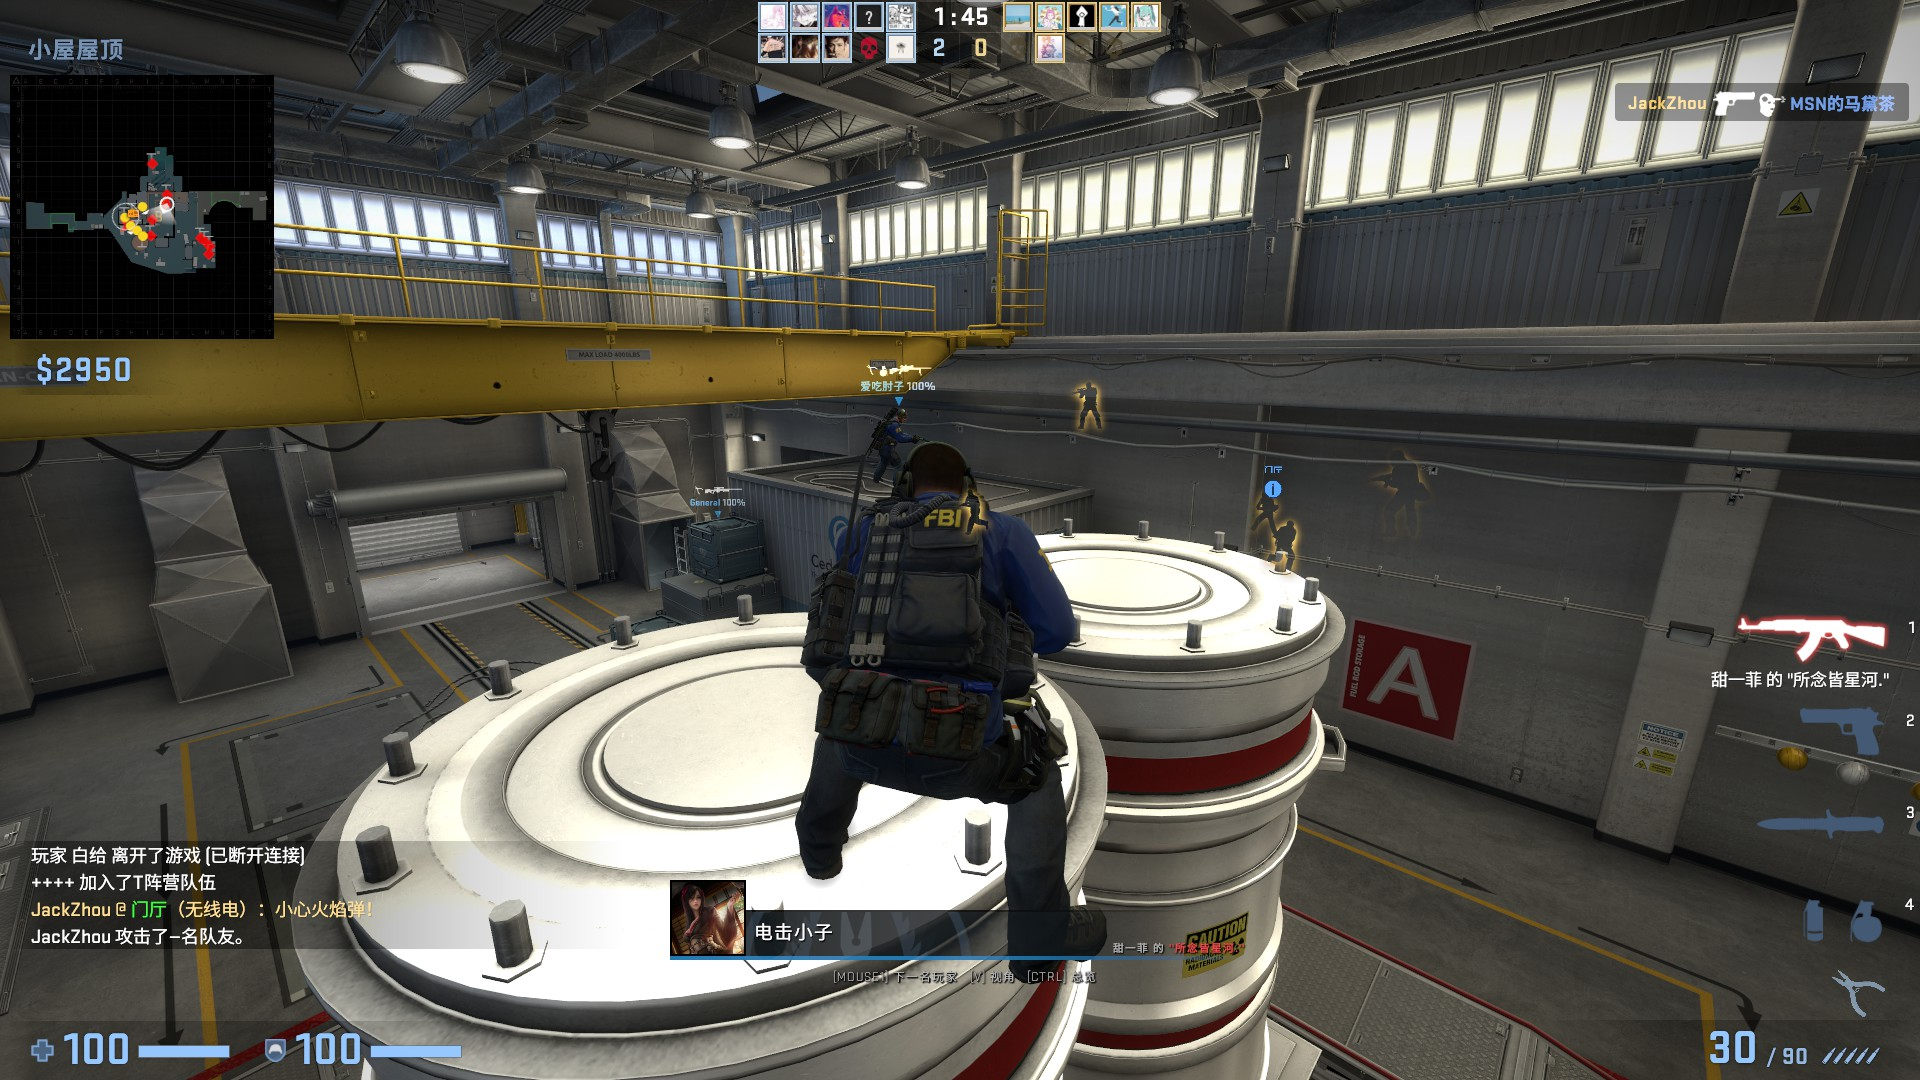head: (899, 438, 976, 502), (888, 406, 910, 422)
